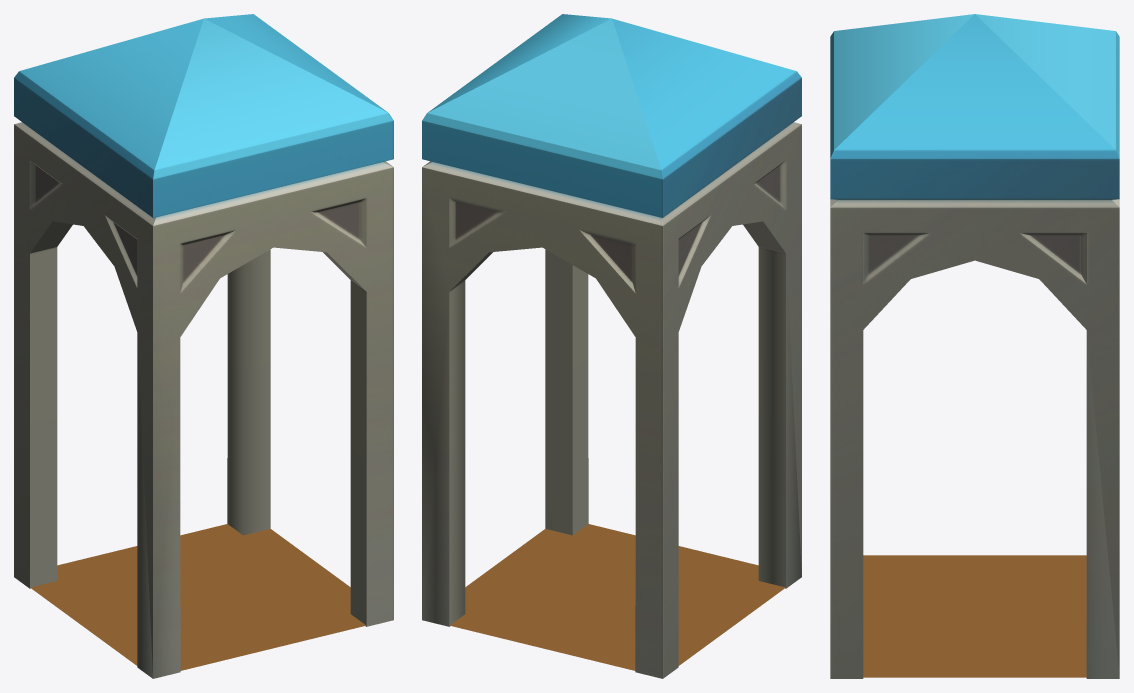
Rendered from top bridge.FBX.
3 views of the same model, side by side, from view 1: azimuth 30°, elevation 25°; view 2: azimuth 150°, elevation 25°; view 3: azimuth 270°, elevation 25° (orthographic). The views are drawn at different scales.
Visible parts, largest first — view 1: top bridge, earth_shadow_top bridge; view 2: top bridge, earth_shadow_top bridge; view 3: top bridge, earth_shadow_top bridge.
Part boxes in pixels (x1,y1,x2,y2): top bridge: (14,14,393,678); earth_shadow_top bridge: (30,524,365,670); top bridge: (422,14,801,678); earth_shadow_top bridge: (450,524,785,670); top bridge: (830,14,1119,678); earth_shadow_top bridge: (863,555,1086,677).
Size of the model in its own units: 100 by 230 by 100.
